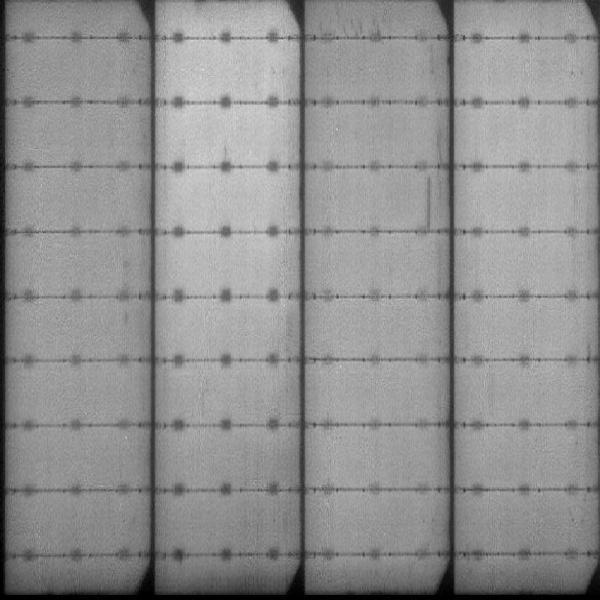scratch: (424, 170, 434, 232)
